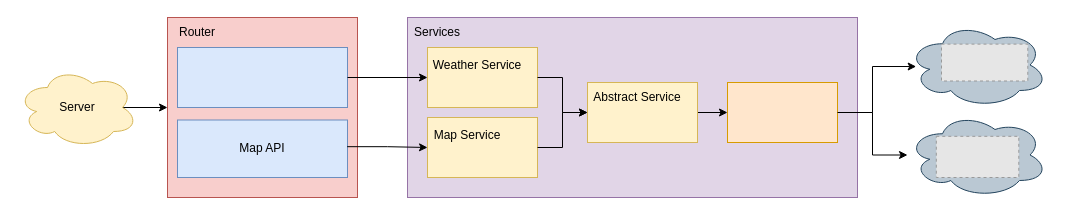
The diagram is 1065 pixels wide and 215 high, and some of its shapes have lost their labels. Grey dashed boxes stand in for pictures. Here are the shapes that lost their labels. From the top down, the box of each, then its label:
(176, 46, 348, 108): Weather API
(726, 82, 838, 142): HTTP Service
